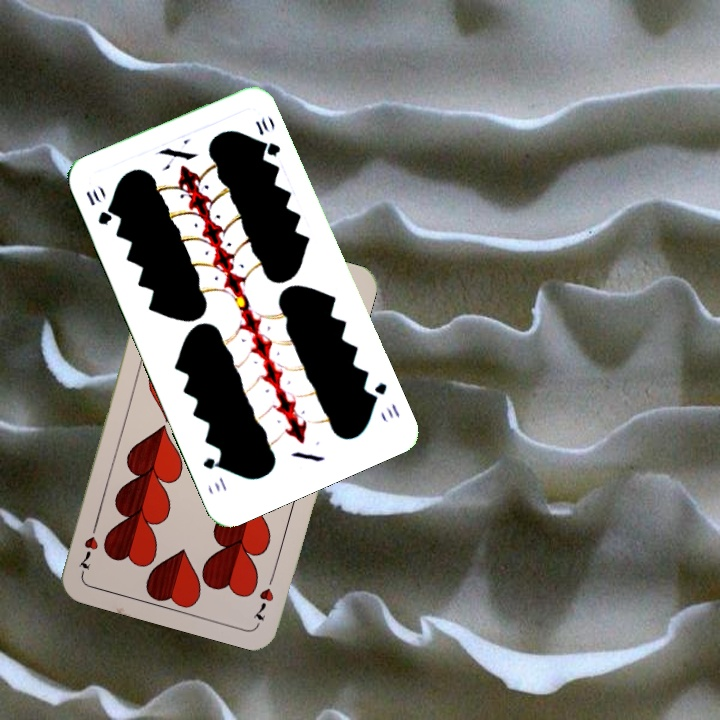G10: (365, 378, 403, 422), (82, 186, 115, 228)
H7: (250, 568, 278, 623)
